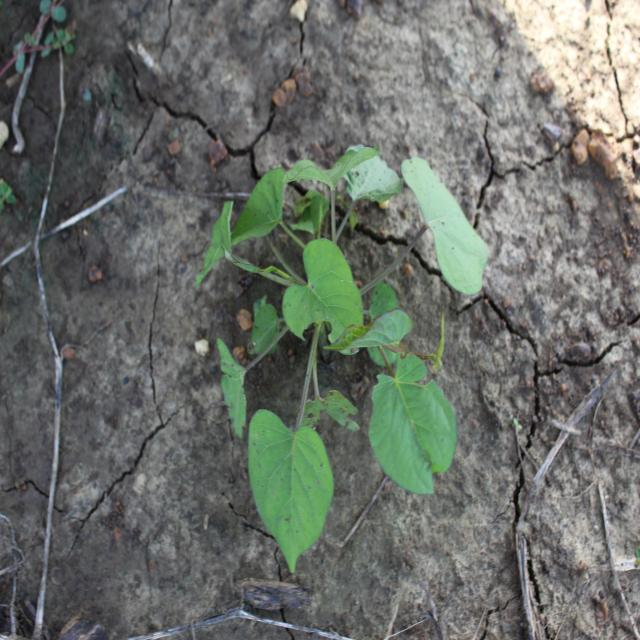MorningGlory: (191, 142, 494, 578)
